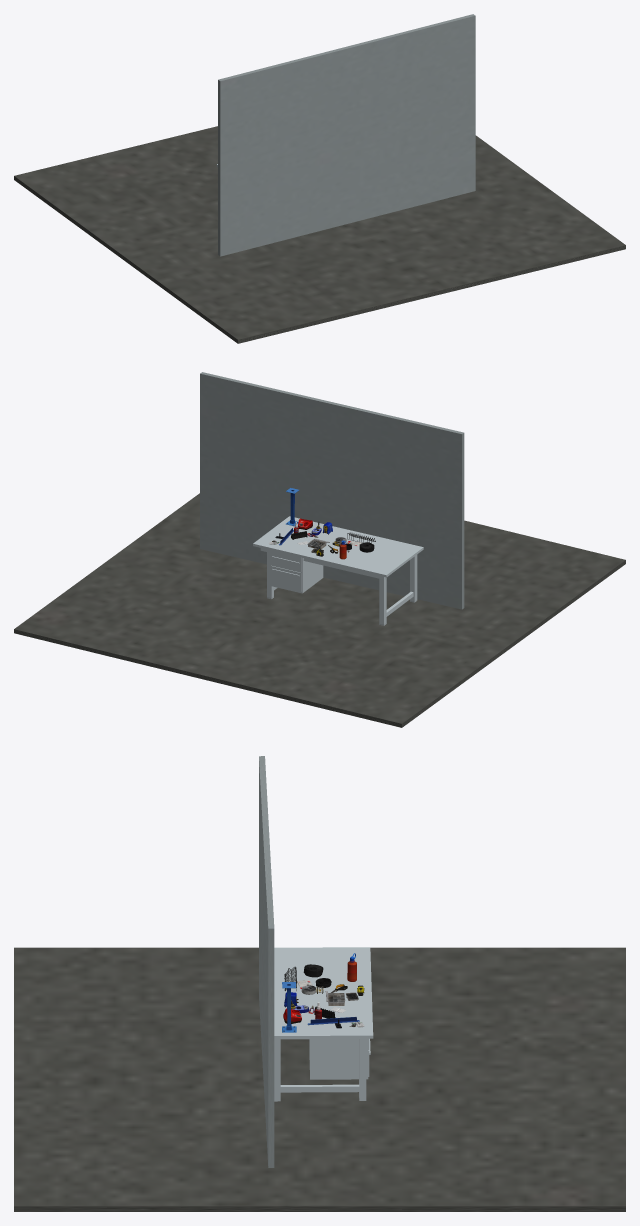
File: ours.glb
3 renders of one model, top to bottom at view 1: azimuth 30°, elevation 25°; view 2: azimuth 150°, elevation 25°; view 3: azimuth 270°, elevation 25°, orthographic. The views are drawn at different scales.
Visible parts, largest first — view 1: floor_0, wall_0; view 2: floor_0, wall_0, table_0; view 3: floor_0, table_0, wall_0.
Part boxes in pixels (x1,y1,x2,y2): floor_0: [14, 126, 625, 343]; wall_0: [218, 14, 475, 256]; floor_0: [14, 493, 625, 727]; wall_0: [200, 372, 464, 609]; table_0: [253, 516, 423, 625]; floor_0: [14, 947, 625, 1211]; table_0: [274, 947, 373, 1101]; wall_0: [259, 756, 274, 1167].
Size of the model in its own units: 6 by 2.65 by 6.
Materials: 31 (31 with a texture image).
